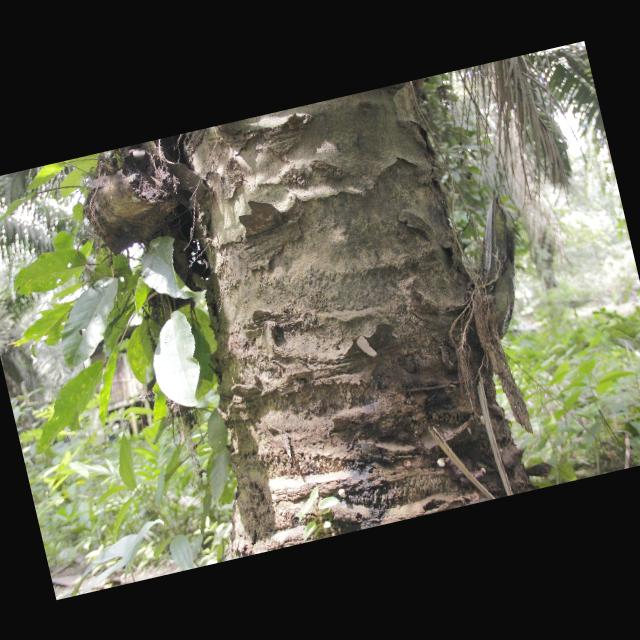ganoderma: (447, 452, 485, 490)
primordium: (437, 458, 447, 470), (339, 489, 349, 501), (481, 416, 487, 426), (481, 467, 487, 475)
